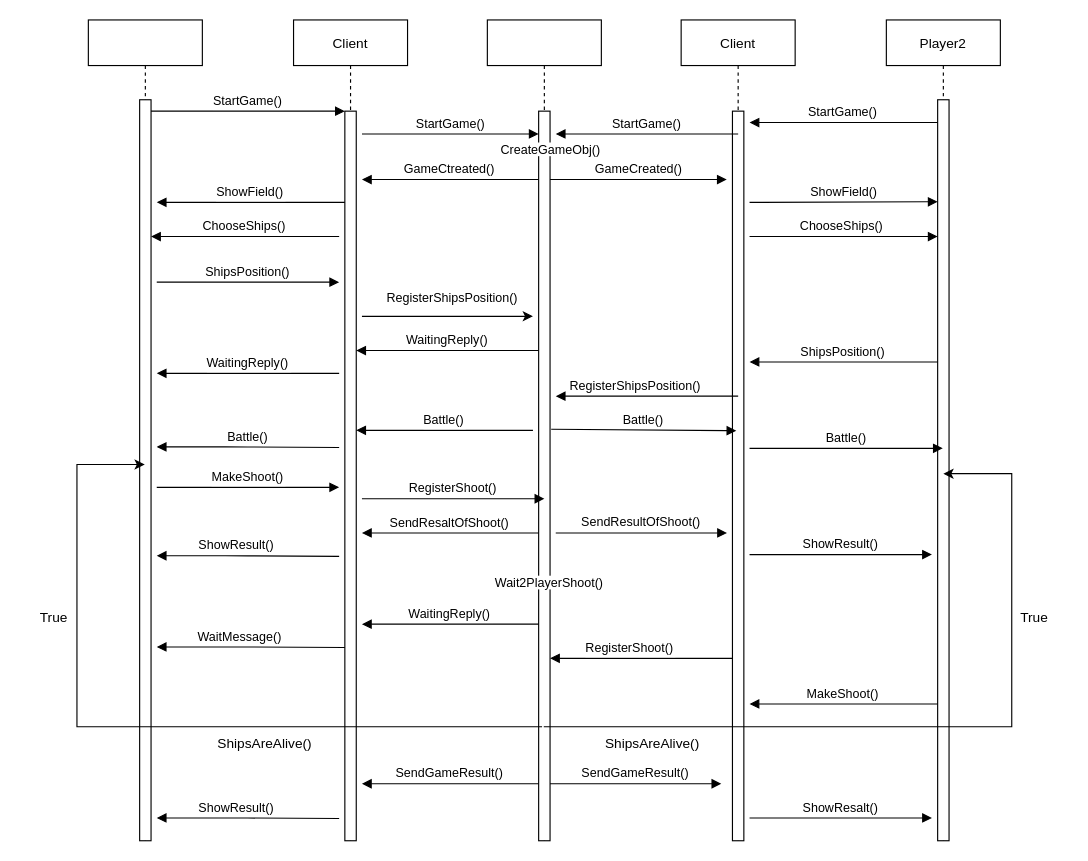
The diagram is 1088 pixels wide and 861 high, and some of its shapes have lost their labels. The shapes that lost their labels are listed below. From the top down, each one's box as (x1, y1, x2, y2) in pixels, then its label:
(87, 19, 202, 841): Player1
(486, 19, 601, 841): Server
